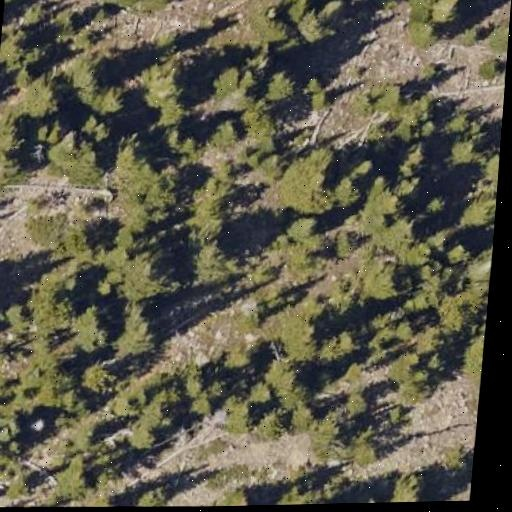tree-top: (102, 250, 177, 358), (113, 153, 188, 237), (102, 232, 180, 308), (128, 48, 200, 130), (37, 118, 115, 190), (266, 145, 343, 216), (0, 64, 53, 155), (104, 298, 168, 365), (9, 67, 67, 124), (350, 255, 405, 307), (130, 392, 181, 448), (72, 61, 125, 114), (66, 301, 117, 355), (231, 95, 285, 144), (0, 103, 30, 187), (282, 296, 333, 345), (310, 321, 358, 368), (452, 184, 498, 233), (54, 449, 101, 496), (25, 280, 75, 324), (214, 57, 261, 103), (36, 366, 82, 412), (0, 25, 45, 69), (290, 233, 337, 275), (289, 9, 336, 50), (195, 242, 237, 287), (385, 467, 437, 503), (217, 392, 258, 437), (246, 11, 293, 48), (390, 100, 434, 138), (261, 65, 300, 107), (254, 482, 322, 506), (196, 184, 233, 227), (27, 207, 66, 245), (371, 183, 411, 218), (401, 14, 439, 49), (262, 357, 301, 391), (380, 214, 421, 245), (435, 296, 472, 330), (88, 360, 124, 394), (395, 138, 432, 171), (138, 476, 176, 507), (67, 220, 104, 251), (332, 176, 365, 210), (447, 134, 482, 165), (433, 0, 469, 30), (220, 343, 255, 373), (292, 397, 324, 429), (443, 236, 476, 267), (350, 437, 383, 468), (4, 467, 39, 496), (0, 424, 22, 469), (393, 345, 427, 374), (420, 189, 454, 217), (476, 51, 506, 82), (76, 488, 123, 507), (344, 389, 373, 417), (18, 5, 52, 28), (408, 236, 435, 263), (351, 153, 379, 179), (479, 148, 500, 179), (472, 266, 491, 300), (423, 352, 449, 375), (283, 0, 318, 17), (406, 370, 434, 391), (469, 327, 486, 360), (429, 228, 452, 248), (136, 0, 186, 8), (497, 19, 510, 45)
